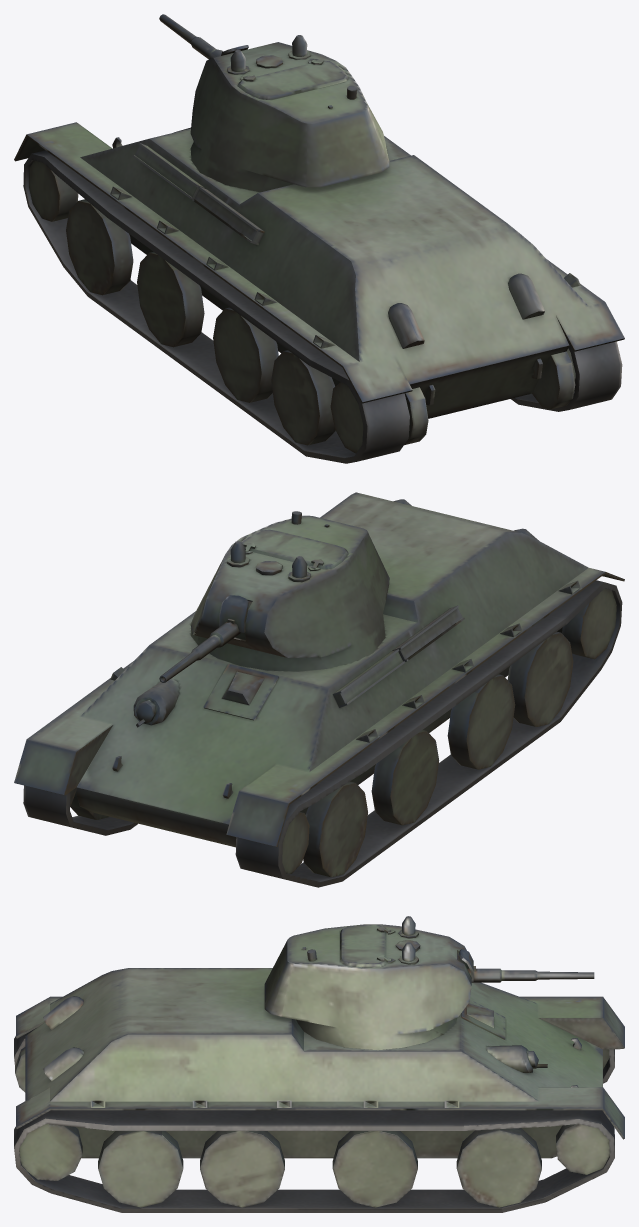
3 views of the same model, one above another, from view 1: azimuth 30°, elevation 25°; view 2: azimuth 150°, elevation 25°; view 3: azimuth 270°, elevation 25° (orthographic). The views are drawn at different scales.
Parts seen in each view (by area): view 1: A-20 Hull, A-20 Turret; view 2: A-20 Hull, A-20 Turret; view 3: A-20 Hull, A-20 Turret.
Part boxes in pixels (box(x1,y1,x2,y2)): A-20 Hull: box(14, 122, 624, 463); A-20 Turret: box(159, 14, 389, 192); A-20 Hull: box(14, 492, 624, 887); A-20 Turret: box(159, 511, 389, 682); A-20 Hull: box(14, 968, 624, 1212); A-20 Turret: box(264, 916, 594, 1050).
Bounding box in the file's own units: 2.58 × 2.46 × 5.96.
